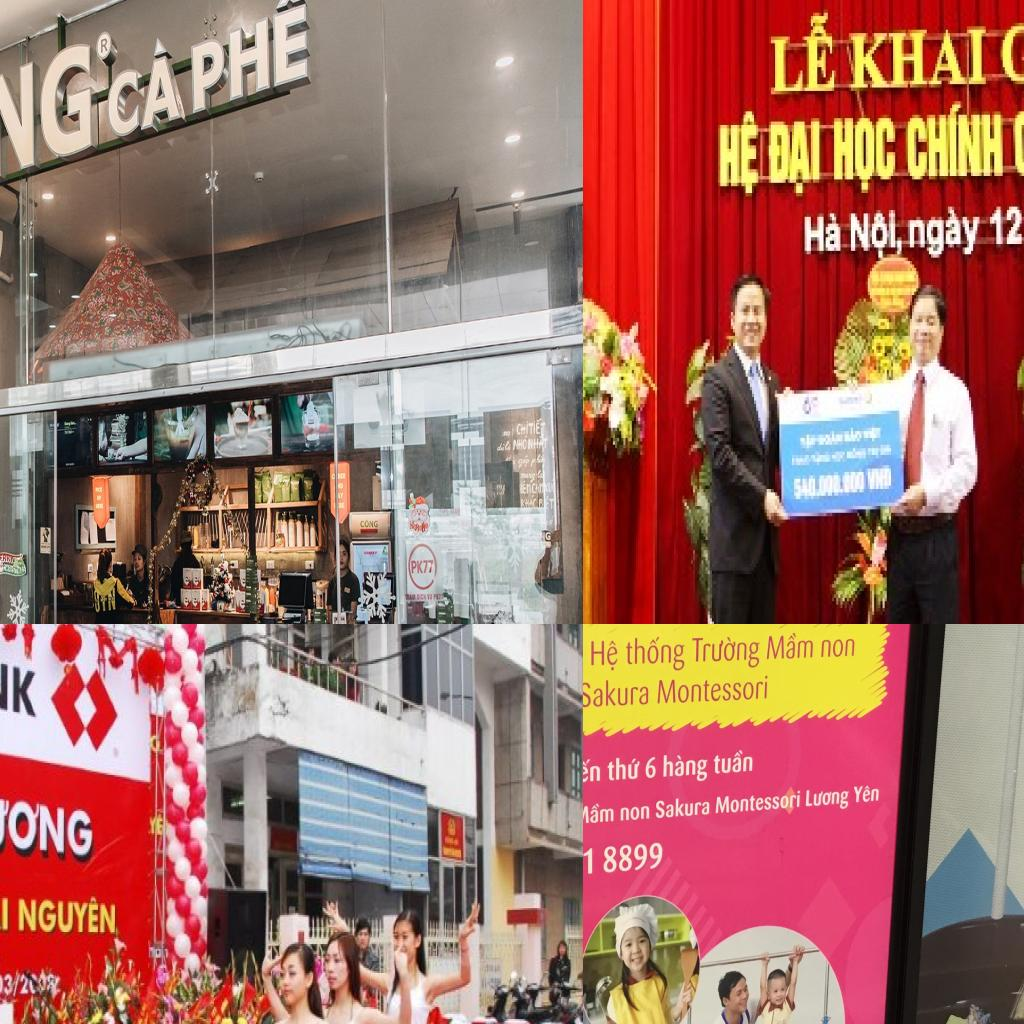text: (0, 12, 94, 239), (188, 0, 309, 128), (847, 23, 990, 94), (107, 29, 187, 146), (906, 101, 1007, 186), (0, 781, 93, 867), (765, 6, 838, 98), (834, 115, 900, 200), (16, 892, 121, 940), (766, 118, 824, 203), (906, 206, 984, 264), (714, 108, 760, 200), (583, 840, 664, 885), (656, 674, 770, 705), (0, 641, 39, 720), (849, 210, 906, 264), (790, 469, 868, 506), (691, 635, 761, 670), (625, 634, 686, 673), (583, 677, 651, 709), (714, 790, 801, 815), (800, 210, 844, 258), (986, 206, 1024, 250), (765, 630, 814, 661), (662, 752, 709, 783), (654, 795, 712, 820), (713, 748, 754, 776), (805, 788, 850, 811), (590, 638, 619, 672), (606, 756, 641, 782), (583, 801, 615, 826), (868, 466, 893, 492), (852, 784, 880, 804), (619, 804, 650, 822), (583, 757, 601, 785), (1, 970, 14, 1000), (527, 528, 552, 543), (526, 434, 548, 450), (412, 560, 434, 574), (528, 417, 546, 434), (520, 494, 538, 511), (538, 494, 554, 513), (530, 452, 547, 469), (644, 756, 656, 780), (147, 813, 158, 838), (512, 435, 529, 451), (2, 564, 27, 574), (0, 552, 16, 567), (359, 518, 379, 530), (20, 971, 30, 995), (518, 454, 532, 470), (12, 973, 20, 1000), (516, 420, 529, 436), (520, 471, 537, 483), (536, 468, 548, 485), (519, 480, 531, 496), (532, 479, 544, 495), (544, 476, 556, 492), (100, 38, 109, 54), (502, 428, 514, 440), (496, 442, 506, 452), (362, 551, 378, 557), (505, 440, 512, 453), (405, 594, 416, 602), (416, 594, 427, 602), (434, 594, 445, 602), (337, 472, 346, 480), (95, 486, 104, 493), (338, 501, 345, 510), (95, 503, 105, 509), (338, 491, 344, 500), (426, 593, 432, 602), (338, 482, 344, 490), (331, 473, 335, 481), (97, 495, 102, 501)
